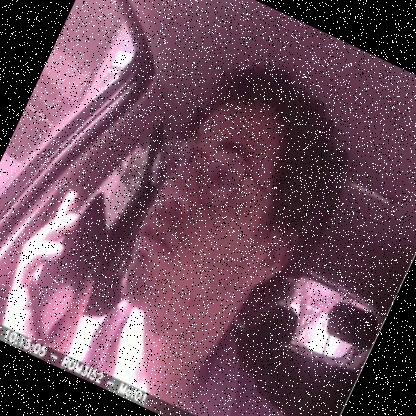phone: (0, 164, 134, 352)
